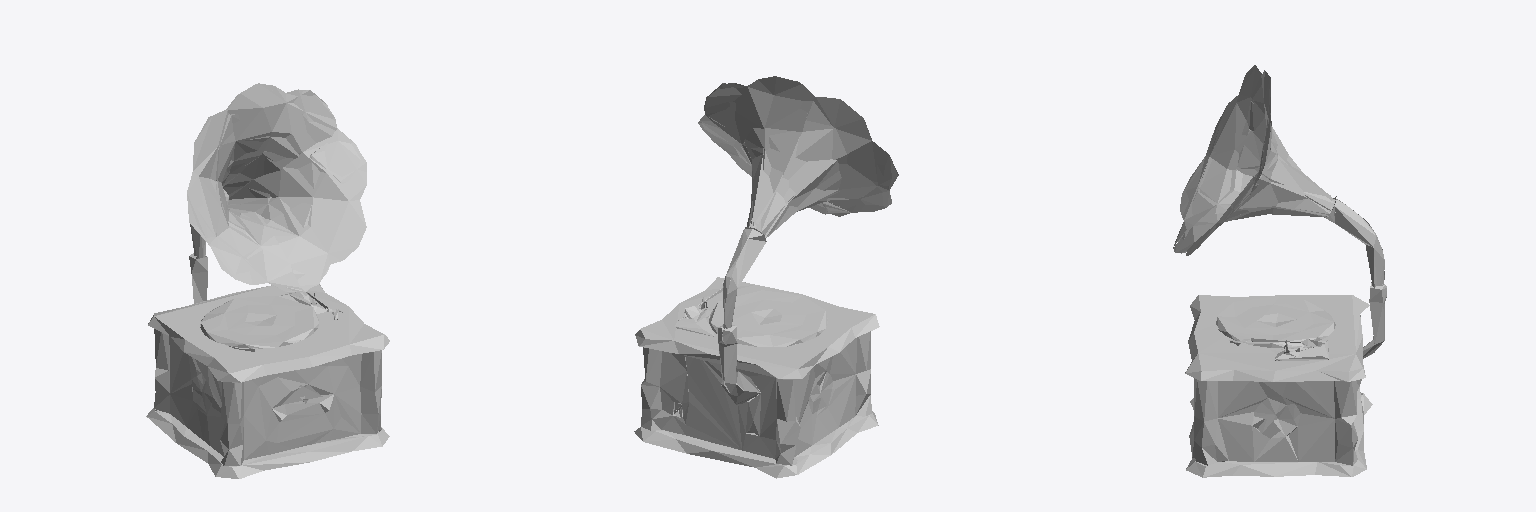
File: phonograph.obj
3 views of the same model, side by side, from view 1: azimuth 30°, elevation 25°; view 2: azimuth 150°, elevation 25°; view 3: azimuth 270°, elevation 25° (orthographic).
Parts seen in each view (by area): view 1: MDCNR997BC40_LOD0_lambert1_0; view 2: MDCNR997BC40_LOD0_lambert1_0; view 3: MDCNR997BC40_LOD0_lambert1_0.
Boxes of the visible parts, box(x1,y1,x2,y2) form: MDCNR997BC40_LOD0_lambert1_0: box(146, 83, 389, 478); MDCNR997BC40_LOD0_lambert1_0: box(634, 76, 898, 478); MDCNR997BC40_LOD0_lambert1_0: box(1173, 65, 1386, 477).
Size of the model in its own units: 157 by 269 by 148.